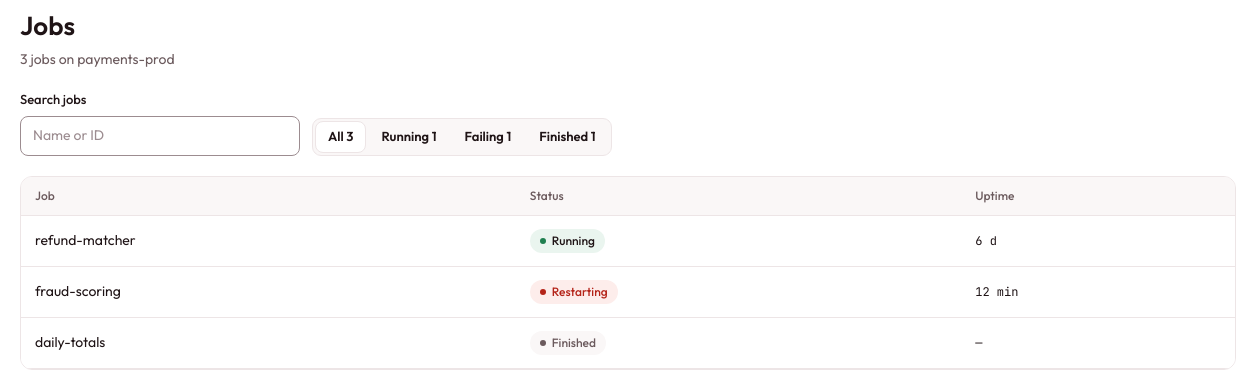
Test case: audit of b5b249a: board and copy › audit 2 #5: the no-match live region is there, empty, before it says anything
expect the table named "Jobs" is shown: met, box [21,176,1235,368]
Type "zzz" into the search field labelled "Search jobs" at (160, 136), box [20,116,300,156]
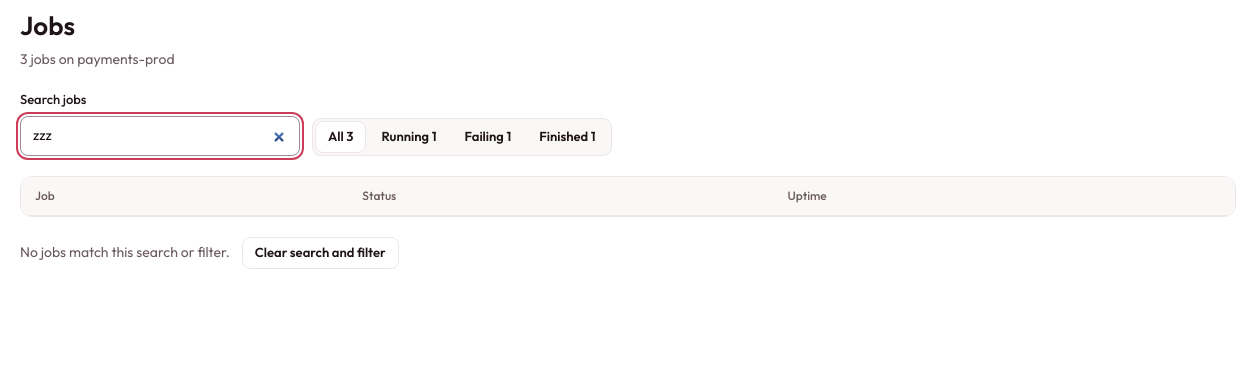
expect the message with test id "jobs-match" shows "No jobs match this search or filter.": met, box [20,243,230,261]
